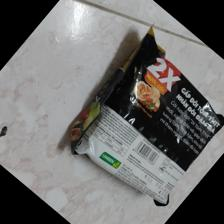3mien: (68, 26, 224, 207)
